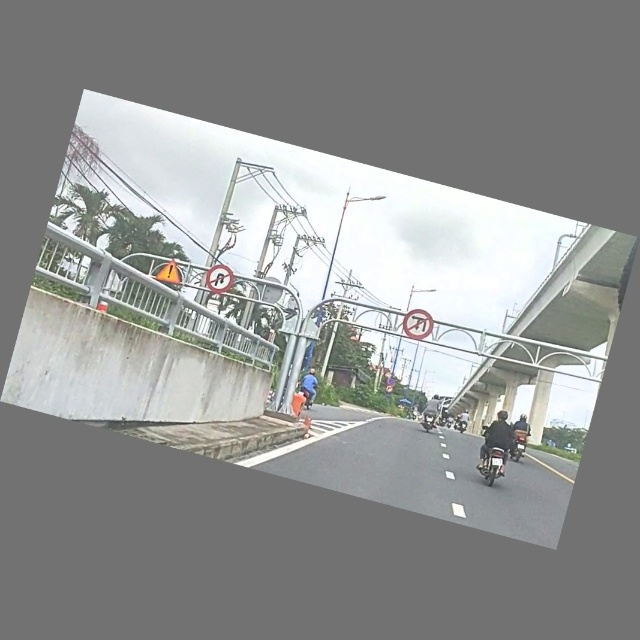P.123a: (383, 385, 394, 394)
P.124a*: (204, 262, 239, 297)
P.124d: (398, 306, 437, 345)
P.130: (385, 376, 397, 387)
W.233: (154, 256, 186, 286)
